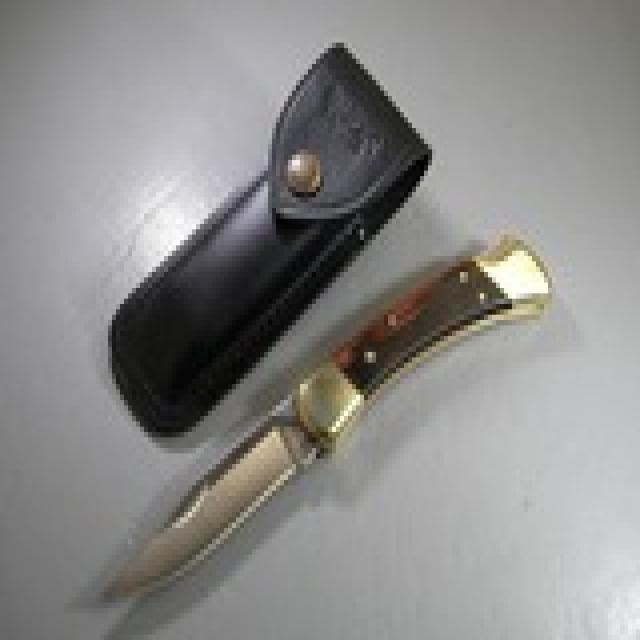Knife: (88, 236, 560, 611)
